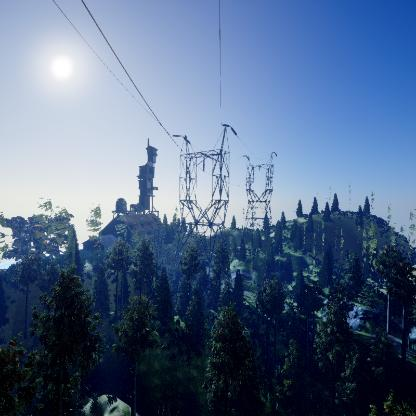tower: (168, 120, 238, 289), (241, 151, 277, 235)
